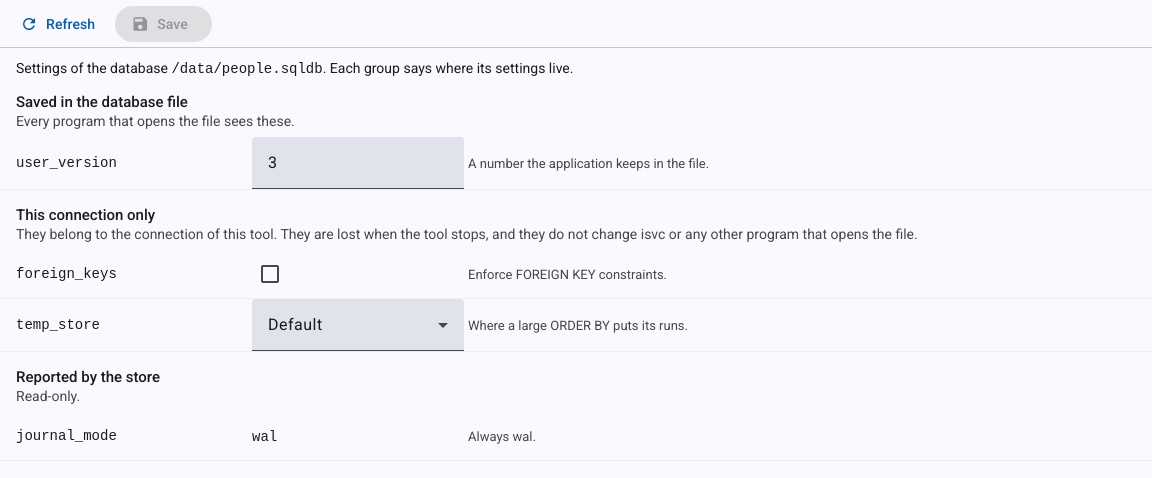
Scenario: PragmasComponent › turns Save off again when a value is put back
This screenshot has width=1152, height=478.
Click the checkbox.
click(270, 274)  # box [261,265,279,283]
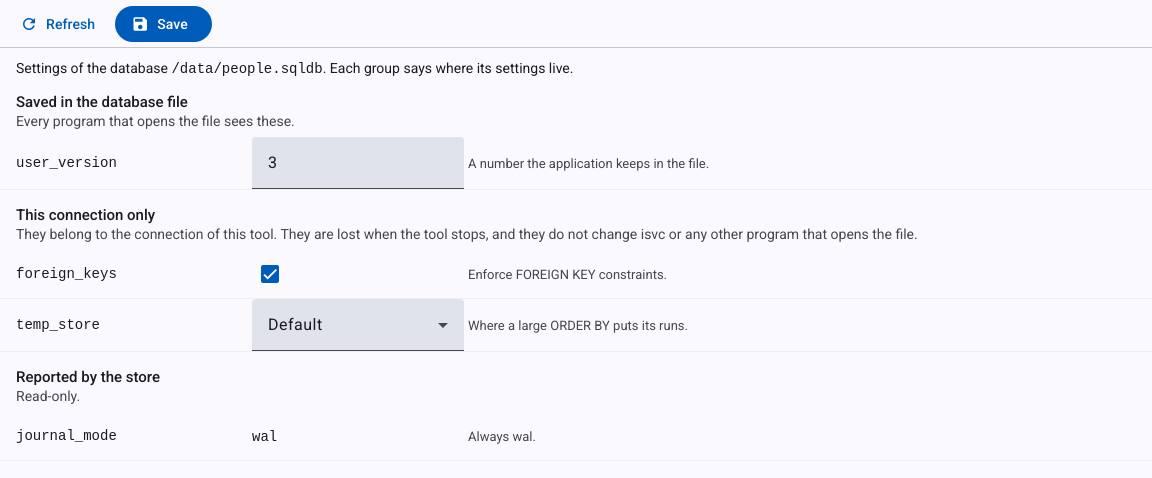
Click the checkbox.
click(270, 274)  # box [261,265,279,283]
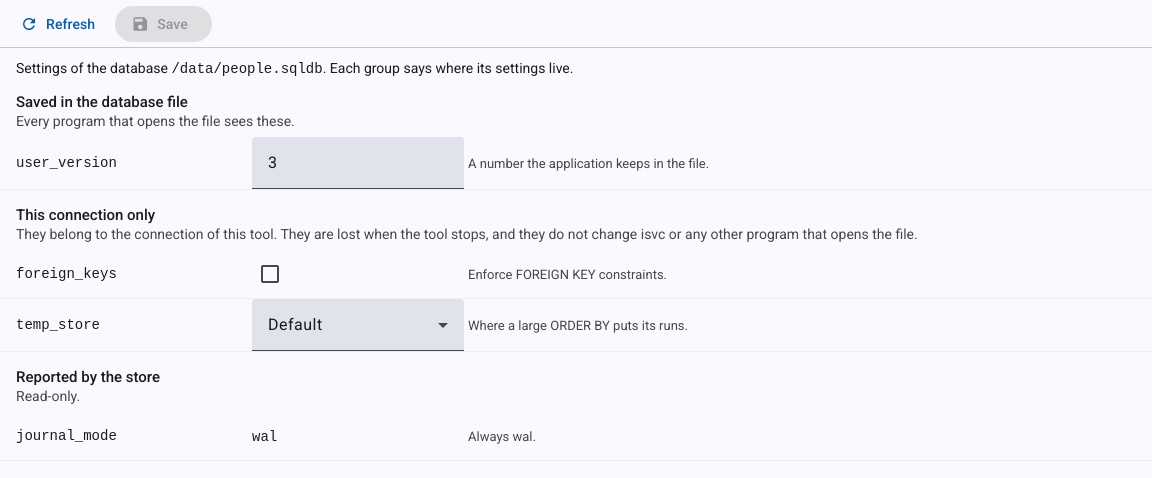
Expected: the button with class "save" is disabled, [115,6,212,42]
